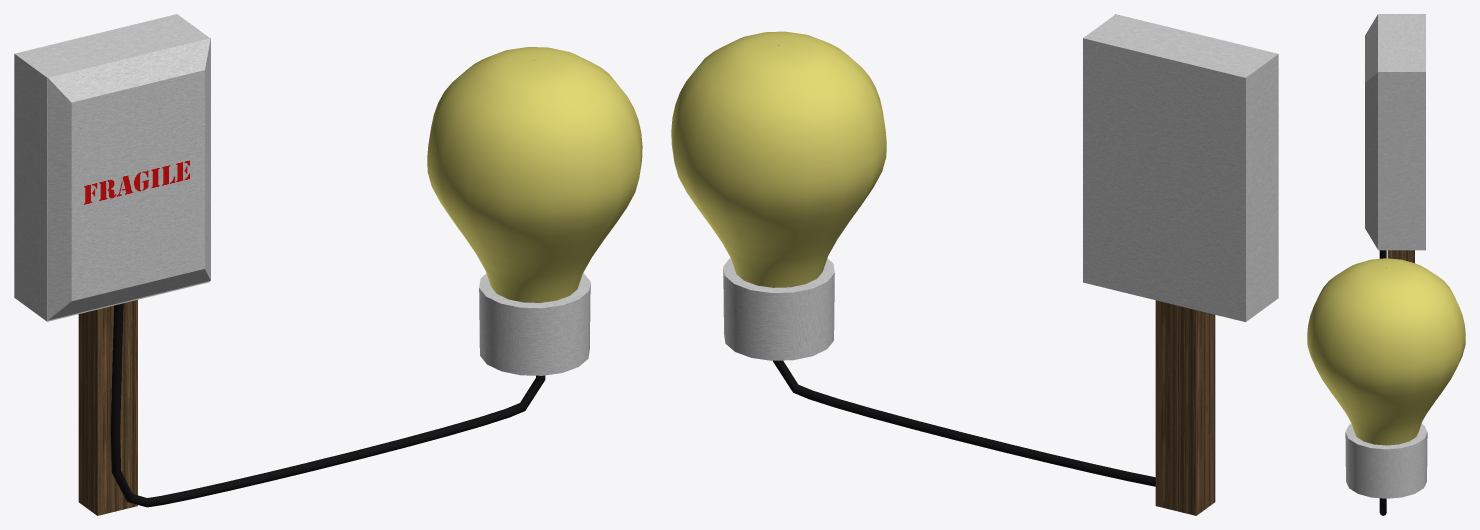
The model's file is LightScene.FBX.
3 views of the same model, side by side, from view 1: azimuth 30°, elevation 25°; view 2: azimuth 150°, elevation 25°; view 3: azimuth 270°, elevation 25° (orthographic). The views are drawn at different scales.
Parts seen in each view (by area): view 1: LightBulb, FuseBoxPanel, FuseBox, Stand, LightBulbBase, Wire; view 2: FuseBox, LightBulb, Stand, LightBulbBase, Wire; view 3: LightBulb, FuseBox, LightBulbBase, FuseBoxPanel, Stand, Wire.
Boxes of the visible parts, x1=… form: LightBulb: x1=427, y1=47, x2=642, y2=302; FuseBoxPanel: x1=48, y1=38, x2=210, y2=320; FuseBox: x1=14, y1=14, x2=209, y2=321; Stand: x1=78, y1=300, x2=137, y2=515; LightBulbBase: x1=479, y1=273, x2=590, y2=375; Wire: x1=110, y1=303, x2=545, y2=507; FuseBox: x1=1083, y1=14, x2=1278, y2=322; LightBulb: x1=671, y1=31, x2=886, y2=287; Stand: x1=1155, y1=300, x2=1215, y2=515; LightBulbBase: x1=723, y1=257, x2=834, y2=360; Wire: x1=773, y1=360, x2=1155, y2=486; LightBulb: x1=1307, y1=258, x2=1465, y2=445; FuseBox: x1=1378, y1=14, x2=1425, y2=250; LightBulbBase: x1=1345, y1=423, x2=1427, y2=498; FuseBoxPanel: x1=1365, y1=14, x2=1377, y2=249; Stand: x1=1387, y1=250, x2=1414, y2=263; Wire: x1=1379, y1=250, x2=1386, y2=515.
Bounding box in the file's own units: 2.61 × 0.8372 × 1.96.
Materials: 6 (3 with a texture image).
